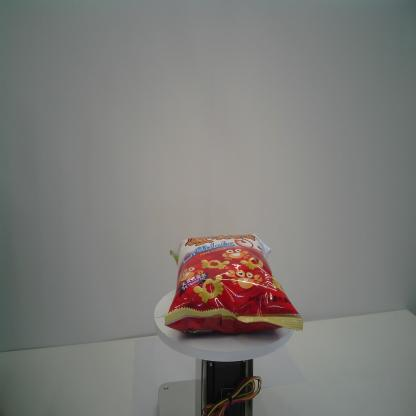Puffed Food: (162, 232, 305, 338)
